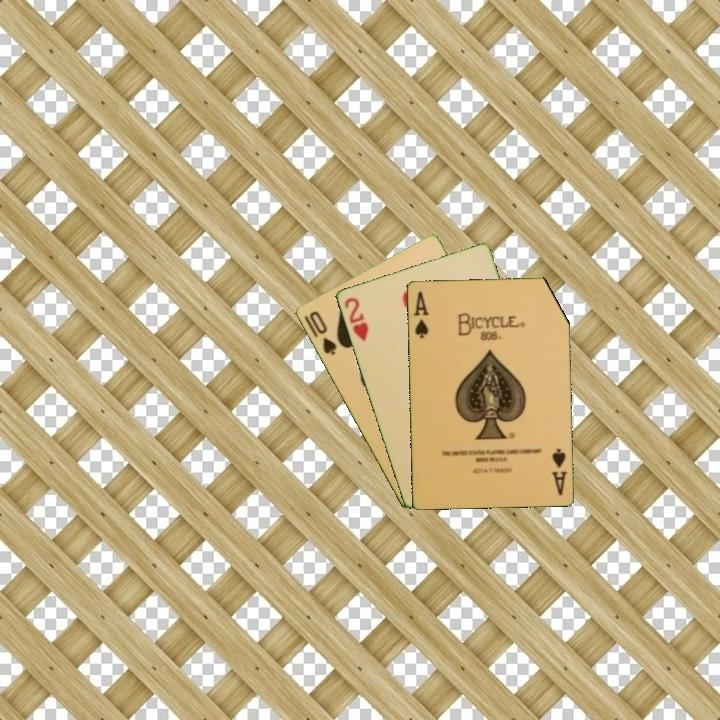10s: (305, 307, 339, 358)
2h: (341, 293, 371, 344)
As: (410, 288, 431, 341), (548, 445, 569, 498)
